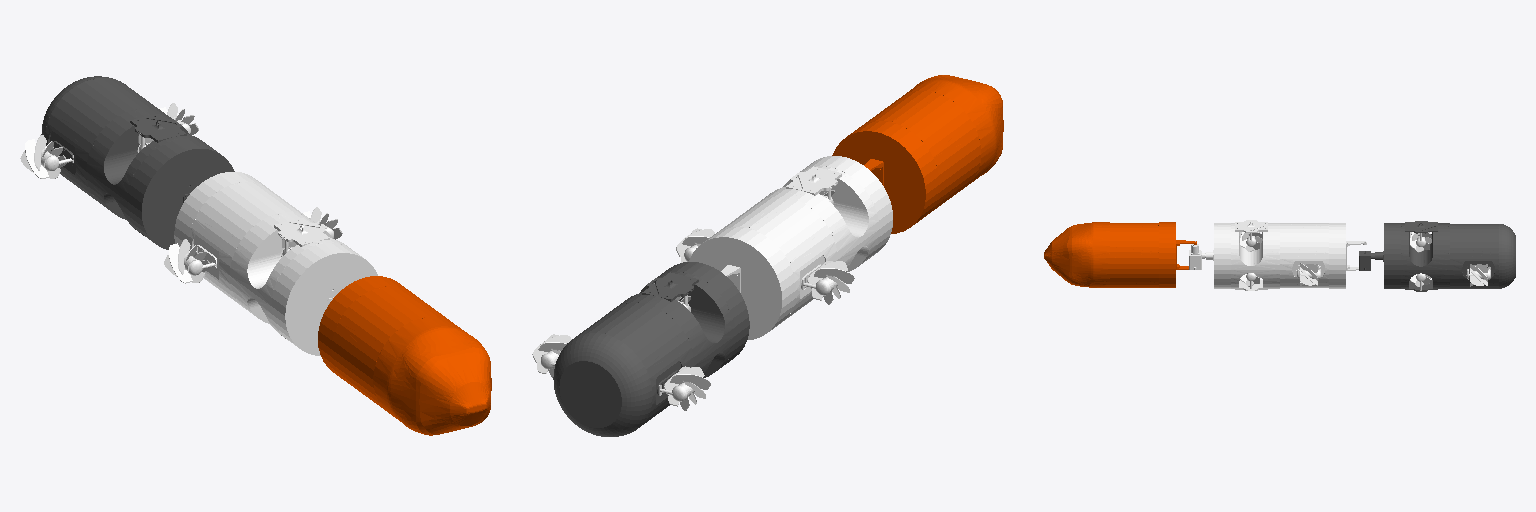
The robot description file, URDF, robot "sw2urdfWS2d":
<?xml version="1.0" encoding="utf-8"?>
<!-- This URDF was automatically created by SolidWorks to URDF Exporter! Originally created by Stephen Brawner (brawner@gmail.com) 
     Commit Version: 1.6.0-4-g7f85cfe  Build Version: 1.6.7995.38578
     For more information, please see http://wiki.ros.org/sw_urdf_exporter -->
<robot
  name="sw2urdfWS2d">
  <link
    name="backDrivenCabin">
    <inertial>
      <origin
        xyz="-1.58703085885771E-07 -0.0462855357367795 -0.00083893647493423"
        rpy="0 0 0" />
      <mass
        value="5.94333504291267" />
      <inertia
        ixx="0.05065030444631"
        ixy="4.33941126540489E-08"
        ixz="-0.000278613283705558"
        iyy="0.0787556572438086"
        iyz="-4.43469112913998E-06"
        izz="0.0608823150159988" />
    </inertial>
    <visual>
      <origin
        xyz="0 0 0"
        rpy="0 0 0" />
      <geometry>
        <mesh
          filename="package://sw2urdfWS2d/meshes/backDrivenCabin.STL" />
      </geometry>
      <material
        name="">
        <color
          rgba="0.411764705882353 0.411764705882353 0.411764705882353 1" />
      </material>
    </visual>
    <collision>
      <origin
        xyz="0 0 0"
        rpy="0 0 0" />
      <geometry>
        <mesh
          filename="package://sw2urdfWS2d/meshes/backDrivenCabin.STL" />
      </geometry>
    </collision>
  </link>
  <link
    name="frontDrivenCabin">
    <inertial>
      <origin
        xyz="-1.63127334655211E-07 -0.419439622488326 0.00195154287583103"
        rpy="0 0 0" />
      <mass
        value="6.28907190774222" />
      <inertia
        ixx="0.0538005603256902"
        ixy="4.33958813501213E-08"
        ixz="-0.000278613283705526"
        iyy="0.0847113379618653"
        iyz="-4.25365720591421E-06"
        izz="0.0639791683968027" />
    </inertial>
    <visual>
      <origin
        xyz="0 0 0"
        rpy="0 0 0" />
      <geometry>
        <mesh
          filename="package://sw2urdfWS2d/meshes/frontDrivenCabin.STL" />
      </geometry>
      <material
        name="">
        <color
          rgba="1 1 1 1" />
      </material>
    </visual>
    <collision>
      <origin
        xyz="0 0 0"
        rpy="0 0 0" />
      <geometry>
        <mesh
          filename="package://sw2urdfWS2d/meshes/frontDrivenCabin.STL" />
      </geometry>
    </collision>
  </link>
  <joint
    name="J1"
    type="revolute">
    <origin
      xyz="0 -0.388 0"
      rpy="0 0 0" />
    <parent
      link="backDrivenCabin" />
    <child
      link="frontDrivenCabin" />
    <axis
      xyz="0 0 1" />
    <limit
      lower="0"
      upper="0"
      effort="0"
      velocity="0" />
  </joint>
  <link
    name="headCabin">
    <inertial>
      <origin
        xyz="2.82670958949681E-06 0.0050086732844179 0.326719213716778"
        rpy="0 0 0" />
      <mass
        value="4.40387857644999" />
      <inertia
        ixx="0.0574561778760165"
        ixy="1.99081524582439E-07"
        ixz="-1.35519957731174E-07"
        iyy="0.0574181363967825"
        iyz="1.24168050548233E-07"
        izz="0.078072933867114" />
    </inertial>
    <visual>
      <origin
        xyz="0 0 0"
        rpy="0 0 0" />
      <geometry>
        <mesh
          filename="package://sw2urdfWS2d/meshes/headCabin.STL" />
      </geometry>
      <material
        name="">
        <color
          rgba="0.933333333333333 0.372549019607843 0 1" />
      </material>
    </visual>
    <collision>
      <origin
        xyz="0 0 0"
        rpy="0 0 0" />
      <geometry>
        <mesh
          filename="package://sw2urdfWS2d/meshes/headCabin.STL" />
      </geometry>
    </collision>
  </link>
  <joint
    name="J2"
    type="revolute">
    <origin
      xyz="0 -0.776 0"
      rpy="1.5708 0 0" />
    <parent
      link="frontDrivenCabin" />
    <child
      link="headCabin" />
    <axis
      xyz="0 1 0" />
    <limit
      lower="0"
      upper="0"
      effort="0"
      velocity="0" />
  </joint>
  <link
    name="FR">
    <inertial>
      <origin
        xyz="2.67719476334952E-06 -0.00821452737266326 0.00191068038065456"
        rpy="0 0 0" />
      <mass
        value="0.163699075202484" />
      <inertia
        ixx="0.000129954159439666"
        ixy="-1.46424862865547E-08"
        ixz="-6.27270268619217E-12"
        iyy="0.000119854046883797"
        iyz="-1.94024404784293E-08"
        izz="9.74198043808335E-05" />
    </inertial>
    <visual>
      <origin
        xyz="0 0 0"
        rpy="0 0 0" />
      <geometry>
        <mesh
          filename="package://sw2urdfWS2d/meshes/FR.STL" />
      </geometry>
      <material
        name="">
        <color
          rgba="1 1 1 1" />
      </material>
    </visual>
    <collision>
      <origin
        xyz="0 0 0"
        rpy="0 0 0" />
      <geometry>
        <mesh
          filename="package://sw2urdfWS2d/meshes/FR.STL" />
      </geometry>
    </collision>
  </link>
  <joint
    name="FRJ"
    type="fixed">
    <origin
      xyz="0.194999771339964 -0.248658356702528 0.00251455813324088"
      rpy="1.57079632679514 1.56934569550971 -3.14159265358955" />
    <parent
      link="frontDrivenCabin" />
    <child
      link="FR" />
    <axis
      xyz="0 0 0" />
  </joint>
  <link
    name="FL">
    <inertial>
      <origin
        xyz="2.67719476338291E-06 -0.00821452737266321 0.00191068038065467"
        rpy="0 0 0" />
      <mass
        value="0.163699075202483" />
      <inertia
        ixx="0.000129954159439665"
        ixy="-1.46424862865548E-08"
        ixz="-6.27270249709518E-12"
        iyy="0.000119854046883797"
        iyz="-1.94024404784619E-08"
        izz="9.74198043808332E-05" />
    </inertial>
    <visual>
      <origin
        xyz="0 0 0"
        rpy="0 0 0" />
      <geometry>
        <mesh
          filename="package://sw2urdfWS2d/meshes/FL.STL" />
      </geometry>
      <material
        name="">
        <color
          rgba="1 1 1 1" />
      </material>
    </visual>
    <collision>
      <origin
        xyz="0 0 0"
        rpy="0 0 0" />
      <geometry>
        <mesh
          filename="package://sw2urdfWS2d/meshes/FL.STL" />
      </geometry>
    </collision>
  </link>
  <joint
    name="FLJ"
    type="fixed">
    <origin
      xyz="-0.195000249703343 -0.248658356702528 0.00248554551770515"
      rpy="-1.57079632679514 -1.56934569550971 0" />
    <parent
      link="frontDrivenCabin" />
    <child
      link="FL" />
    <axis
      xyz="0 0 0" />
  </joint>
  <link
    name="FU">
    <inertial>
      <origin
        xyz="2.67719476321204E-06 -0.00821452737266329 0.00191068038065466"
        rpy="0 0 0" />
      <mass
        value="0.163699075202485" />
      <inertia
        ixx="0.000129954159439666"
        ixy="-1.46424862851623E-08"
        ixz="-6.27270220425965E-12"
        iyy="0.000119854046883797"
        iyz="-1.94024404776292E-08"
        izz="9.74198043808337E-05" />
    </inertial>
    <visual>
      <origin
        xyz="0 0 0"
        rpy="0 0 0" />
      <geometry>
        <mesh
          filename="package://sw2urdfWS2d/meshes/FU.STL" />
      </geometry>
      <material
        name="">
        <color
          rgba="1 1 1 1" />
      </material>
    </visual>
    <collision>
      <origin
        xyz="0 0 0"
        rpy="0 0 0" />
      <geometry>
        <mesh
          filename="package://sw2urdfWS2d/meshes/FU.STL" />
      </geometry>
    </collision>
  </link>
  <joint
    name="FUJ"
    type="fixed">
    <origin
      xyz="-0.00100023918168426 -0.512172863010291 -0.0949999376528762"
      rpy="-1.57079632679494 0.00145063128510239 1.5707963267949" />
    <parent
      link="frontDrivenCabin" />
    <child
      link="FU" />
    <axis
      xyz="0 0 0" />
  </joint>
  <link
    name="FD">
    <inertial>
      <origin
        xyz="2.67719476299E-06 -0.00821452737266332 0.00191068038065474"
        rpy="0 0 0" />
      <mass
        value="0.163699075202484" />
      <inertia
        ixx="0.000129954159439666"
        ixy="-1.46424862852724E-08"
        ixz="-6.2727019716175E-12"
        iyy="0.000119854046883796"
        iyz="-1.94024404767218E-08"
        izz="9.74198043808334E-05" />
    </inertial>
    <visual>
      <origin
        xyz="0 0 0"
        rpy="0 0 0" />
      <geometry>
        <mesh
          filename="package://sw2urdfWS2d/meshes/FD.STL" />
      </geometry>
      <material
        name="">
        <color
          rgba="1 1 1 1" />
      </material>
    </visual>
    <collision>
      <origin
        xyz="0 0 0"
        rpy="0 0 0" />
      <geometry>
        <mesh
          filename="package://sw2urdfWS2d/meshes/FD.STL" />
      </geometry>
    </collision>
  </link>
  <joint
    name="FDJ"
    type="fixed">
    <origin
      xyz="0.000999760818305179 -0.512172863010291 0.100000041303816"
      rpy="1.57079632679482 -0.0014506312851017 1.57079632679489" />
    <parent
      link="frontDrivenCabin" />
    <child
      link="FD" />
    <axis
      xyz="0 0 0" />
  </joint>
  <link
    name="BR">
    <inertial>
      <origin
        xyz="2.62536934734868E-06 -0.00821452729748362 0.00191068038065448"
        rpy="0 0 0" />
      <mass
        value="0.163699075202483" />
      <inertia
        ixx="0.000129954159439665"
        ixy="-1.46424862866884E-08"
        ixz="-6.27270254963009E-12"
        iyy="0.000119854046883796"
        iyz="-1.94024404784353E-08"
        izz="9.74198043808335E-05" />
    </inertial>
    <visual>
      <origin
        xyz="0 0 0"
        rpy="0 0 0" />
      <geometry>
        <mesh
          filename="package://sw2urdfWS2d/meshes/BR.STL" />
      </geometry>
      <material
        name="">
        <color
          rgba="1 1 1 1" />
      </material>
    </visual>
    <collision>
      <origin
        xyz="0 0 0"
        rpy="0 0 0" />
      <geometry>
        <mesh
          filename="package://sw2urdfWS2d/meshes/BR.STL" />
      </geometry>
    </collision>
  </link>
  <joint
    name="BRJ"
    type="fixed">
    <origin
      xyz="0.195 0.13934 1.4506E-05"
      rpy="1.5708 1.5693 -3.1416" />
    <parent
      link="backDrivenCabin" />
    <child
      link="BR" />
    <axis
      xyz="0 0 0" />
  </joint>
  <link
    name="BL">
    <inertial>
      <origin
        xyz="2.72902017836113E-06 -0.00821452744784287 0.00191068038065451"
        rpy="0 0 0" />
      <mass
        value="0.163699075202483" />
      <inertia
        ixx="0.000129954159439665"
        ixy="-1.46424862865997E-08"
        ixz="-6.2727026411895E-12"
        iyy="0.000119854046883797"
        iyz="-1.94024404784626E-08"
        izz="9.74198043808334E-05" />
    </inertial>
    <visual>
      <origin
        xyz="0 0 0"
        rpy="0 0 0" />
      <geometry>
        <mesh
          filename="package://sw2urdfWS2d/meshes/BL.STL" />
      </geometry>
      <material
        name="">
        <color
          rgba="1 1 1 1" />
      </material>
    </visual>
    <collision>
      <origin
        xyz="0 0 0"
        rpy="0 0 0" />
      <geometry>
        <mesh
          filename="package://sw2urdfWS2d/meshes/BL.STL" />
      </geometry>
    </collision>
  </link>
  <joint
    name="BLJ"
    type="fixed">
    <origin
      xyz="-0.195 0.13934 -1.4506E-05"
      rpy="-1.5708 -1.5693 0" />
    <parent
      link="backDrivenCabin" />
    <child
      link="BL" />
    <axis
      xyz="0 0 0" />
  </joint>
  <link
    name="BU">
    <inertial>
      <origin
        xyz="2.67719476318429E-06 -0.00821452737266336 0.0019106803806546"
        rpy="0 0 0" />
      <mass
        value="0.163699075202483" />
      <inertia
        ixx="0.000129954159439665"
        ixy="-1.46424862854772E-08"
        ixz="-6.27270248051508E-12"
        iyy="0.000119854046883796"
        iyz="-1.94024404775099E-08"
        izz="9.74198043808332E-05" />
    </inertial>
    <visual>
      <origin
        xyz="0 0 0"
        rpy="0 0 0" />
      <geometry>
        <mesh
          filename="package://sw2urdfWS2d/meshes/BU.STL" />
      </geometry>
      <material
        name="">
        <color
          rgba="1 1 1 1" />
      </material>
    </visual>
    <collision>
      <origin
        xyz="0 0 0"
        rpy="0 0 0" />
      <geometry>
        <mesh
          filename="package://sw2urdfWS2d/meshes/BU.STL" />
      </geometry>
    </collision>
  </link>
  <joint
    name="BUJ"
    type="fixed">
    <origin
      xyz="-0.0010002 -0.12417 -0.0975"
      rpy="-1.5708 0.0014506 1.5708" />
    <parent
      link="backDrivenCabin" />
    <child
      link="BU" />
    <axis
      xyz="0 0 0" />
  </joint>
  <link
    name="BD">
    <inertial>
      <origin
        xyz="2.67719476303163E-06 -0.00821452737266334 0.00191068038065452"
        rpy="0 0 0" />
      <mass
        value="0.163699075202483" />
      <inertia
        ixx="0.000129954159439665"
        ixy="-1.46424862847746E-08"
        ixz="-6.27270250577854E-12"
        iyy="0.000119854046883797"
        iyz="-1.94024404778699E-08"
        izz="9.74198043808336E-05" />
    </inertial>
    <visual>
      <origin
        xyz="0 0 0"
        rpy="0 0 0" />
      <geometry>
        <mesh
          filename="package://sw2urdfWS2d/meshes/BD.STL" />
      </geometry>
      <material
        name="">
        <color
          rgba="1 1 1 1" />
      </material>
    </visual>
    <collision>
      <origin
        xyz="0 0 0"
        rpy="0 0 0" />
      <geometry>
        <mesh
          filename="package://sw2urdfWS2d/meshes/BD.STL" />
      </geometry>
    </collision>
  </link>
  <joint
    name="BDJ"
    type="fixed">
    <origin
      xyz="0.000999760818310086 -0.124172863010291 0.0975000413038162"
      rpy="1.57079632679488 -0.00145063128503121 1.5707963267949" />
    <parent
      link="backDrivenCabin" />
    <child
      link="BD" />
    <axis
      xyz="0 0 0" />
  </joint>
</robot>

--- What the picture shows (computed from the rendered views, not written in the file) ---
3 views of the same robot in one strip: view 1: azimuth 30°, elevation 25°; view 2: azimuth 150°, elevation 25°; view 3: azimuth 270°, elevation 25° (orthographic).
Robot: sw2urdfWS2d — 11 links, 10 joints (2 revolute, 8 fixed); root link backDrivenCabin; default pose: every joint at zero.
Visible links, largest first — view 1: frontDrivenCabin, headCabin, backDrivenCabin, BL, FL; view 2: backDrivenCabin, frontDrivenCabin, headCabin, FL, BL, BR, FR; view 3: frontDrivenCabin, backDrivenCabin, headCabin.
Link boxes in pixels (x1,y1,x2,y2): frontDrivenCabin: (174,172,377,355); headCabin: (318,276,491,435); backDrivenCabin: (41,76,234,249); BL: (20,135,73,178); FL: (164,239,216,283); backDrivenCabin: (553,262,749,436); frontDrivenCabin: (689,156,892,339); headCabin: (832,75,1003,233); FL: (802,261,854,304); BL: (659,366,710,410); BR: (532,334,571,377); FR: (676,228,714,262); frontDrivenCabin: (1189,220,1366,290); backDrivenCabin: (1359,221,1515,291); headCabin: (1044,222,1196,287).
Bounding box of the posed robot: 0.5125 × 2.15 × 0.32 m (x, y, z).
11 mesh visuals loaded from 11 distinct referenced files (11 binary STL).
